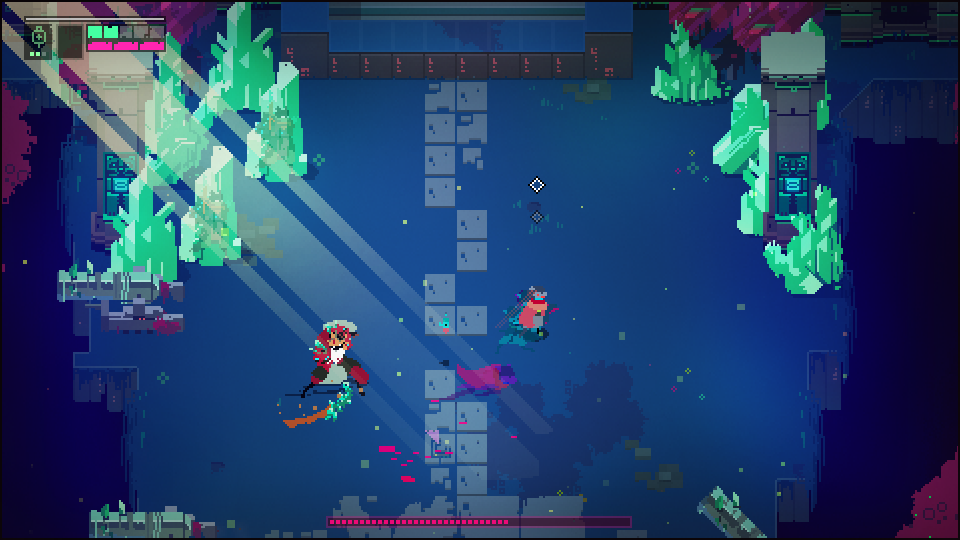hanged_man: (296, 319, 368, 425)
player: (514, 290, 552, 345)
